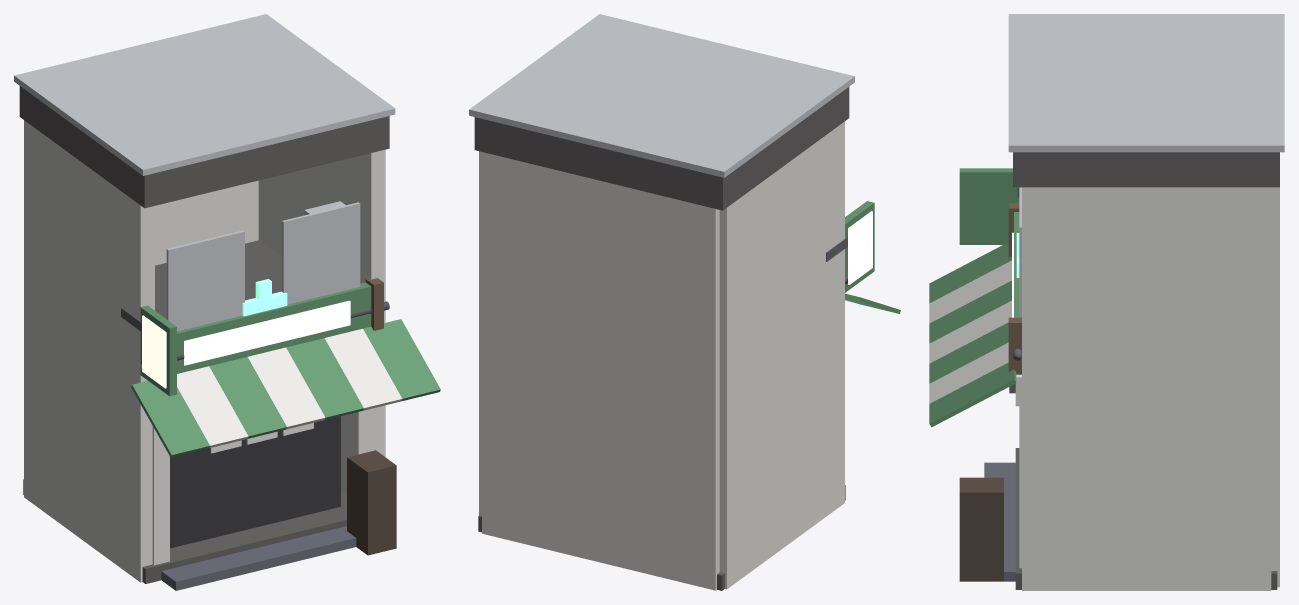
The model's file is prop_shop_yakkyoku.glb.
3 views of the same model, side by side, from view 1: azimuth 30°, elevation 25°; view 2: azimuth 150°, elevation 25°; view 3: azimuth 270°, elevation 25° (orthographic). The views are drawn at different scales.
Parts seen in each view (by area): view 1: shop_yakkyoku; view 2: shop_yakkyoku; view 3: shop_yakkyoku.
Part boxes in pixels (x1,y1,x2,y2): shop_yakkyoku: (14,14,440,590); shop_yakkyoku: (469,14,900,590); shop_yakkyoku: (929,14,1284,590).
Bounding box in the file's own units: 3.73 × 5.54 × 3.99.
